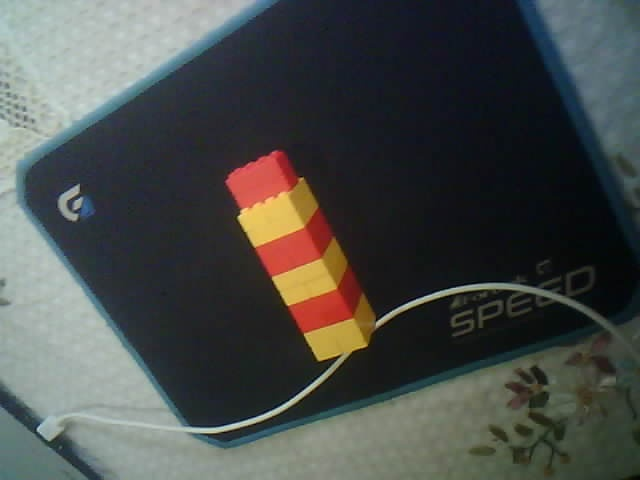lego: (224, 148, 377, 364)
